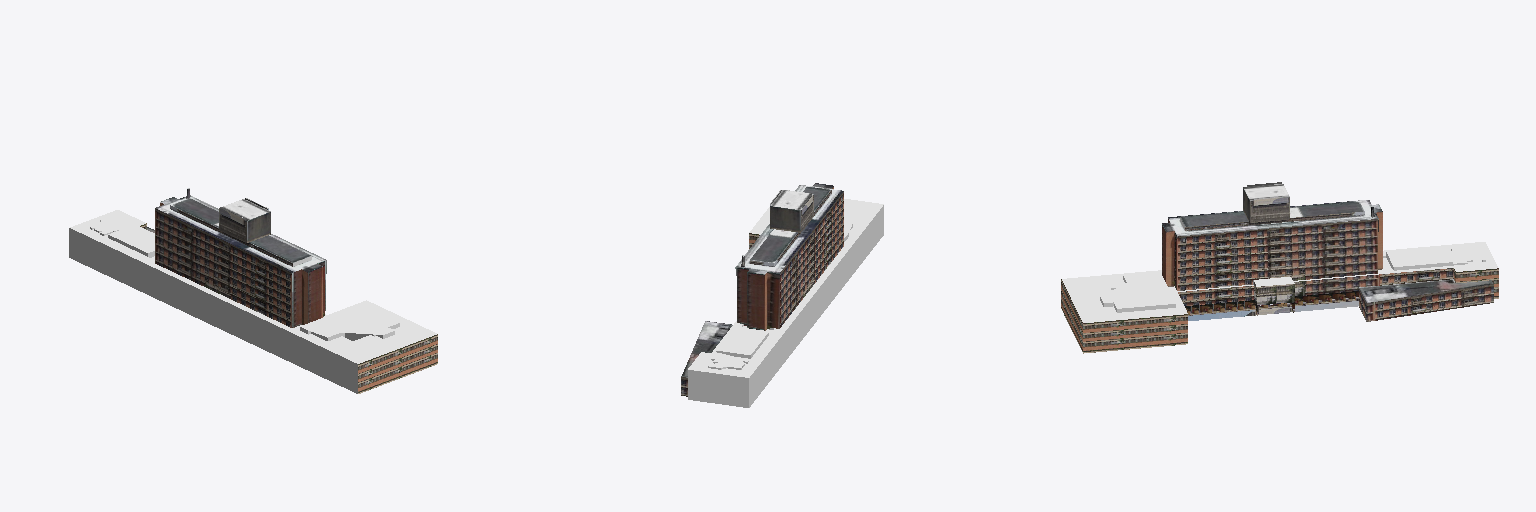
3 renders of one model, left to right at view 1: azimuth 30°, elevation 25°; view 2: azimuth 150°, elevation 25°; view 3: azimuth 270°, elevation 25°, orthographic.
Parts seen in each view (by area): view 1: Mesh1 Model; view 2: Mesh1 Model; view 3: Mesh1 Model.
Boxes of the visible parts, x1=… form: Mesh1 Model: x1=69, y1=188, x2=437, y2=393; Mesh1 Model: x1=681, y1=183, x2=883, y2=407; Mesh1 Model: x1=1061, y1=182, x2=1498, y2=353.
Size of the model in its own units: 9289 by 6007 by 20978.
Materials: 12 (11 with a texture image).